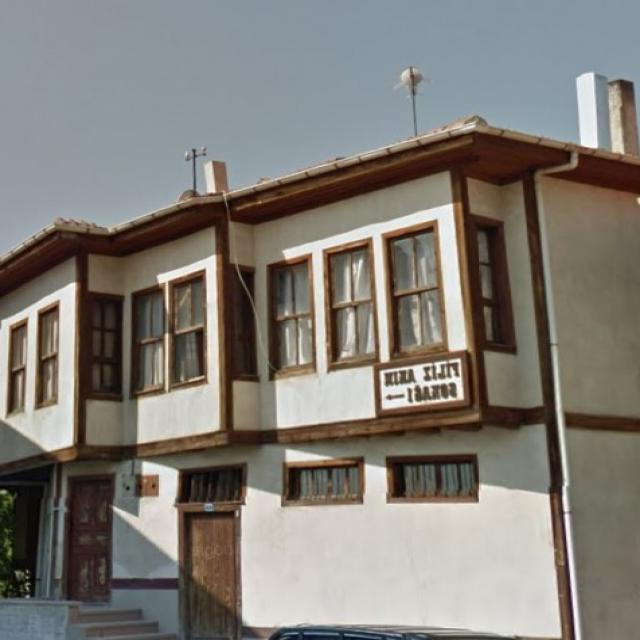Building: (0, 123, 640, 639)
